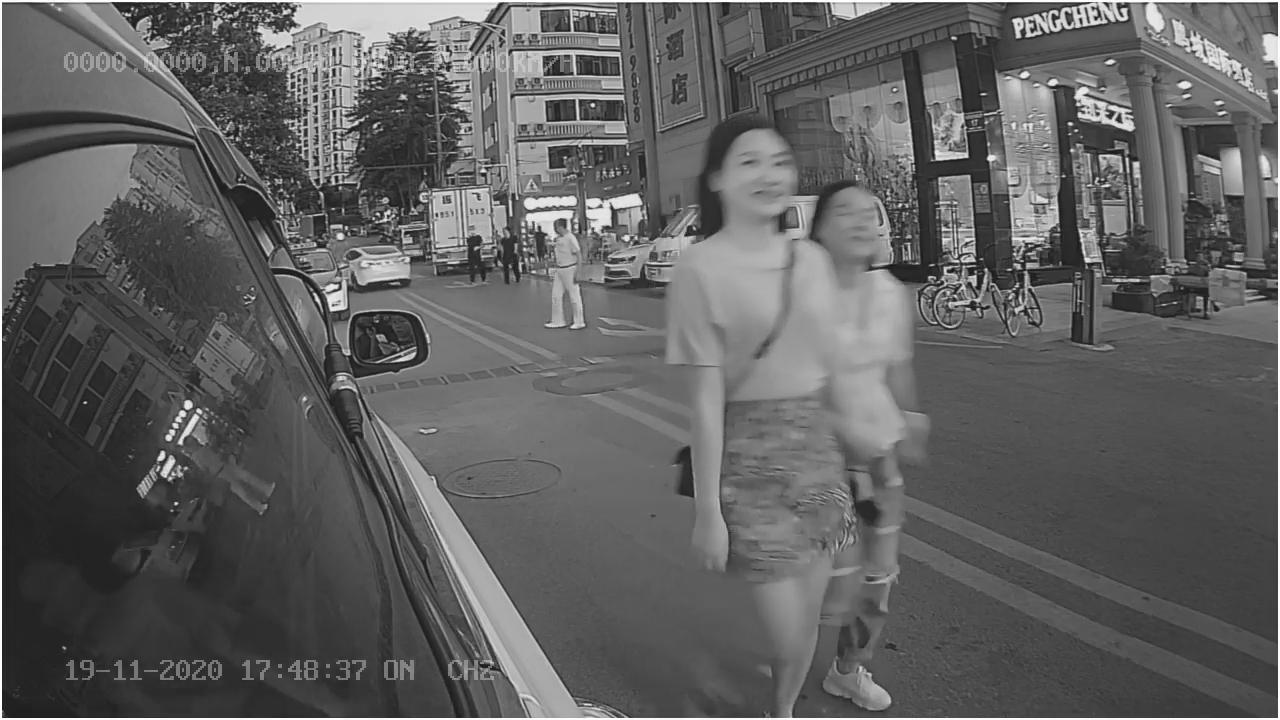person: (661, 111, 880, 673)
